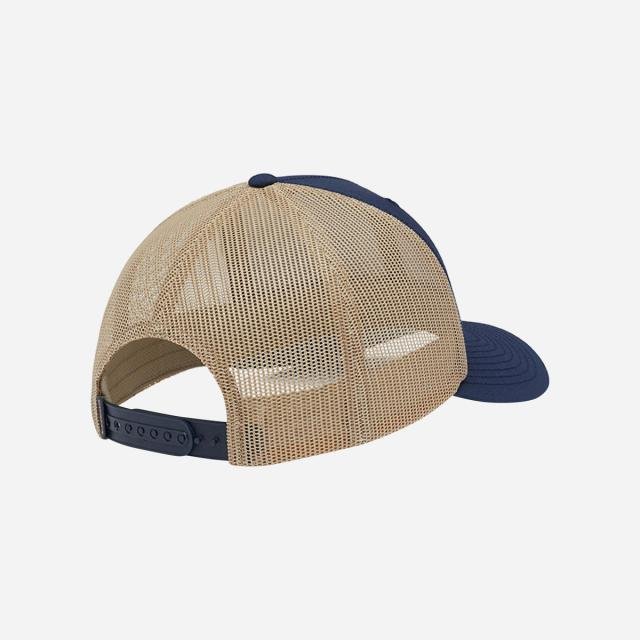Nonhelmet: (78, 164, 558, 476)
